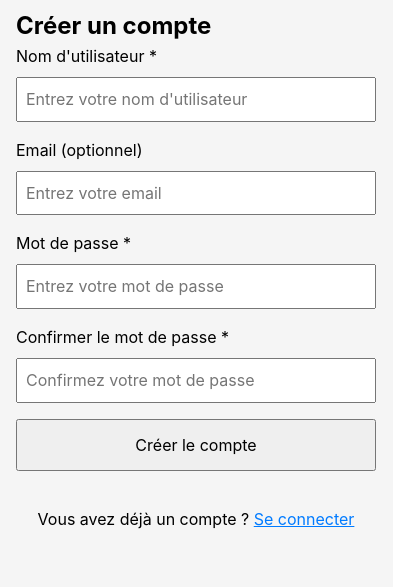
Signup Component › should clear password error when passwords match
D'abord créer une erreur
In the password field labelled "Mot de passe *": (196, 287) [16,264,376,309], type "password123"
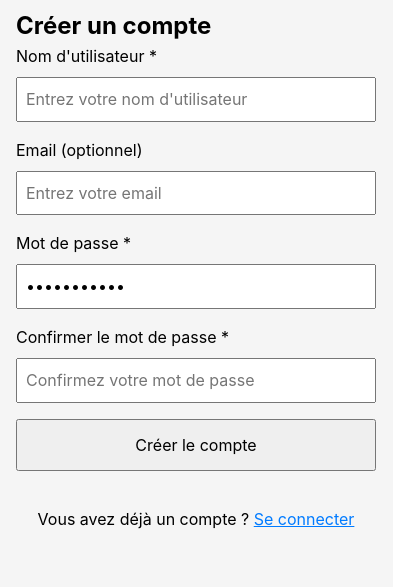
In the password field labelled "Confirmer le mot de passe *": (196, 380) [16,358,376,403], type "different123"
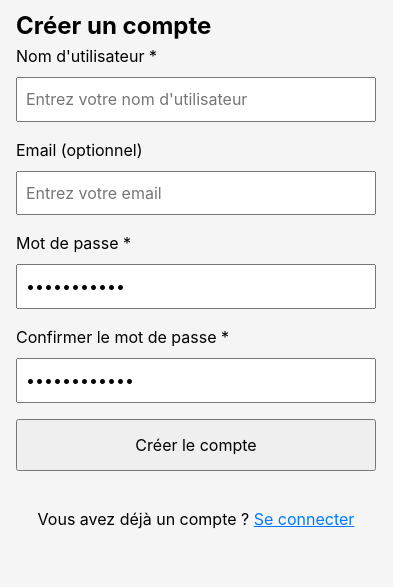
Leave the password field labelled "Confirmer le mot de passe *", box [16,358,376,403]
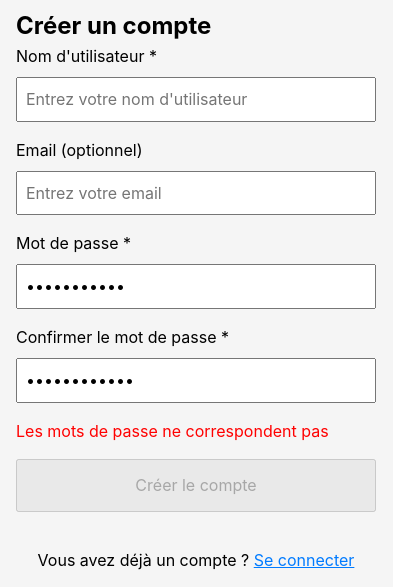
Expected: the text "Les mots de passe ne correspondent pas" is shown, [16,419,376,443]
Puis corriger
In the password field labelled "Confirmer le mot de passe *": (196, 380) [16,358,376,403], type "password123"
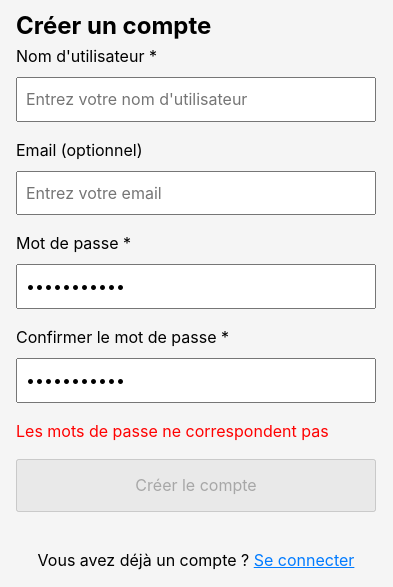
Leave the password field labelled "Confirmer le mot de passe *", box [16,358,376,403]
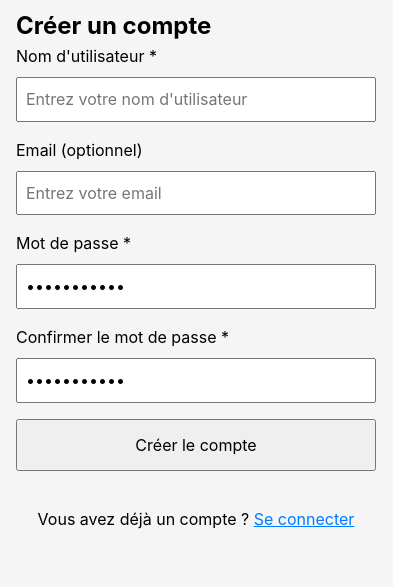
Expected: the text "Les mots de passe ne correspondent pas" is gone
